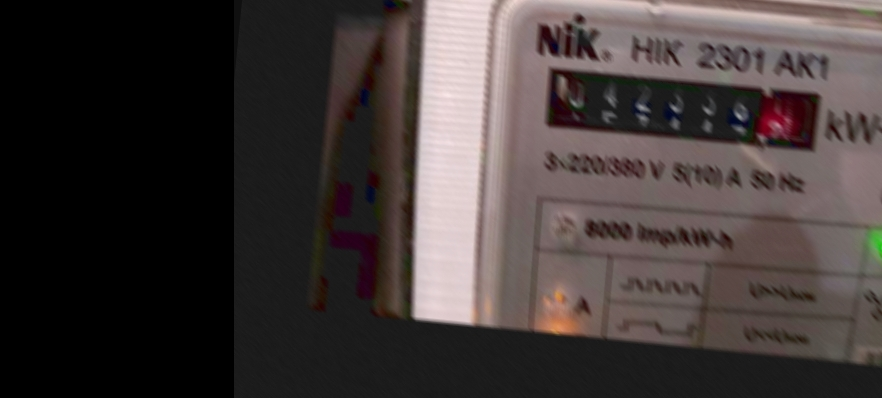0: (567, 79, 586, 108)
1: (770, 93, 785, 116)
2: (635, 81, 654, 112), (766, 119, 784, 138)
3: (699, 85, 718, 116), (667, 84, 685, 113)
4: (601, 77, 621, 108)
6: (733, 90, 753, 122)
screen: (532, 53, 835, 163)
